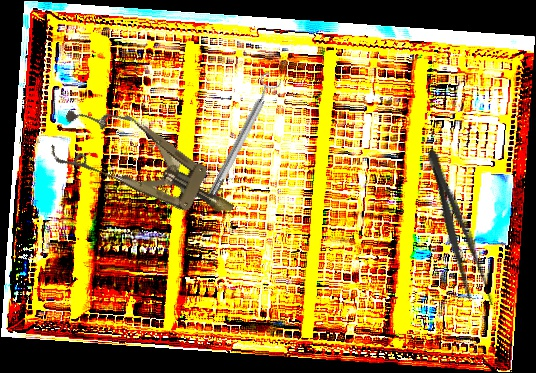Dressing Forceps: (416, 145, 498, 313)
Fixation Ring: (197, 70, 284, 208)
Speculum: (44, 91, 250, 243)
